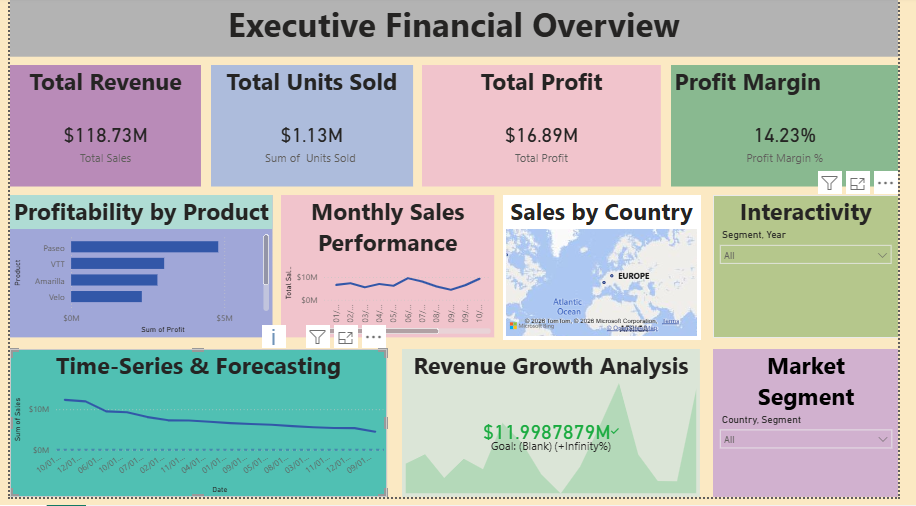

Layout of this report page (visuals, bound fields, positions):
{"tool":"powerbi","page":{"name":"Page 1","canvas":[1280,720],"ordinal":0},"visuals":[{"type":"textbox","box":[0,0,1278.7,86.4],"z":0},{"type":"card","title":"Total Revenue","fields":{"Values":["Financials.Total Sales"]},"box":[0,97.4,275.5,174.7],"z":1000},{"type":"slicer","title":"Market Segment","fields":{"Values":["Financials.Country","Financials.Segment"]},"box":[1012.3,506.9,267.8,213.1],"z":2000},{"type":"lineChart","title":"Monthly Sales Performance","fields":{"Category":["Financials.Date.Variation.Date Hierarchy.Year"],"Y":["Financials.Total Sales"]},"box":[389.7,285.6,307.4,204.9],"z":3000},{"type":"clusteredBarChart","title":"Profitability by Product","fields":{"Category":["Financials. Product "],"Y":["Sum(Financials. Profit )"]},"box":[0,285.6,378,204.9],"z":4000},{"type":"card","title":"Total Profit","fields":{"Values":["Financials.Total Profit"]},"box":[593,97.4,344.4,174.7],"z":5000},{"type":"card","title":"Total Units Sold","fields":{"Values":["Sum(Financials. Units Sold )"]},"box":[288.9,97.4,290.6,174.7],"z":6000},{"type":"card","title":"Profit Margin ","fields":{"Values":["Financials.Profit Margin %"]},"box":[952.4,97.4,327.6,174.7],"z":7000},{"type":"map","title":"Sales by Country","fields":{"Category":["Financials.Country"]},"box":[710.6,285.6,283.9,208.3],"z":8000},{"type":"slicer","title":"Interactivity","fields":{"Values":["Financials.Segment","Financials.Year"]},"box":[1012.9,285.6,267.1,204.9],"z":9000},{"type":"lineChart","title":"Time-Series & Forecasting","fields":{"Y":["Sum(Financials.  Sales )"],"Category":["Financials.Date"]},"box":[0,506.9,542.9,213.1],"z":10000},{"type":"kpi","title":"Revenue Growth Analysis","fields":{"Indicator":["Financials.Total Sales"],"TrendLine":["Financials.Date"],"Goal":["Financials.PY Sales"]},"box":[564.5,506.9,429.1,213.1],"z":11000}]}

Visuals, with their boxes in screenshot pixels (x1, y1, x2, y2), scaled from the page's 1280x720 canvas onto the 916x506 screenshot:
textbox: (left=0, top=0, right=915, bottom=61)
"Total Revenue" card: (left=0, top=68, right=197, bottom=191)
"Market Segment" slicer: (left=724, top=356, right=915, bottom=505)
"Monthly Sales Performance" lineChart: (left=279, top=201, right=499, bottom=345)
"Profitability by Product" clusteredBarChart: (left=0, top=201, right=271, bottom=345)
"Total Profit" card: (left=424, top=68, right=671, bottom=191)
"Total Units Sold" card: (left=207, top=68, right=415, bottom=191)
"Profit Margin " card: (left=682, top=68, right=915, bottom=191)
"Sales by Country" map: (left=509, top=201, right=712, bottom=347)
"Interactivity" slicer: (left=725, top=201, right=915, bottom=345)
"Time-Series & Forecasting" lineChart: (left=0, top=356, right=389, bottom=505)
"Revenue Growth Analysis" kpi: (left=404, top=356, right=711, bottom=505)
